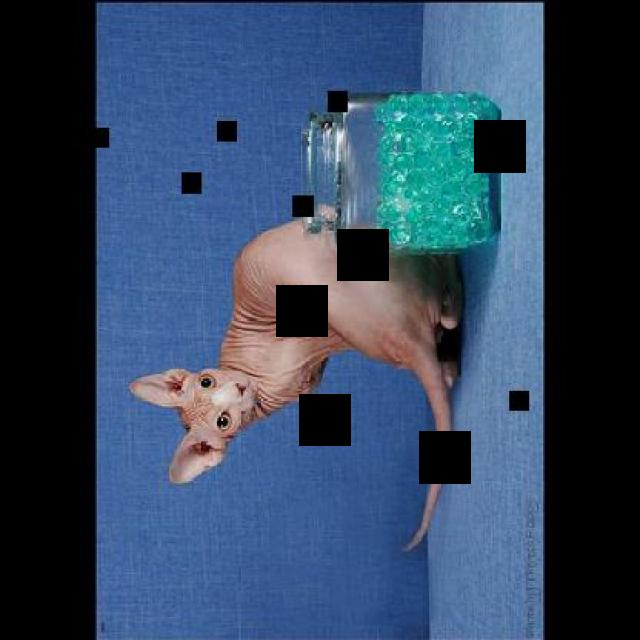unauthorized: (126, 205, 465, 552)
